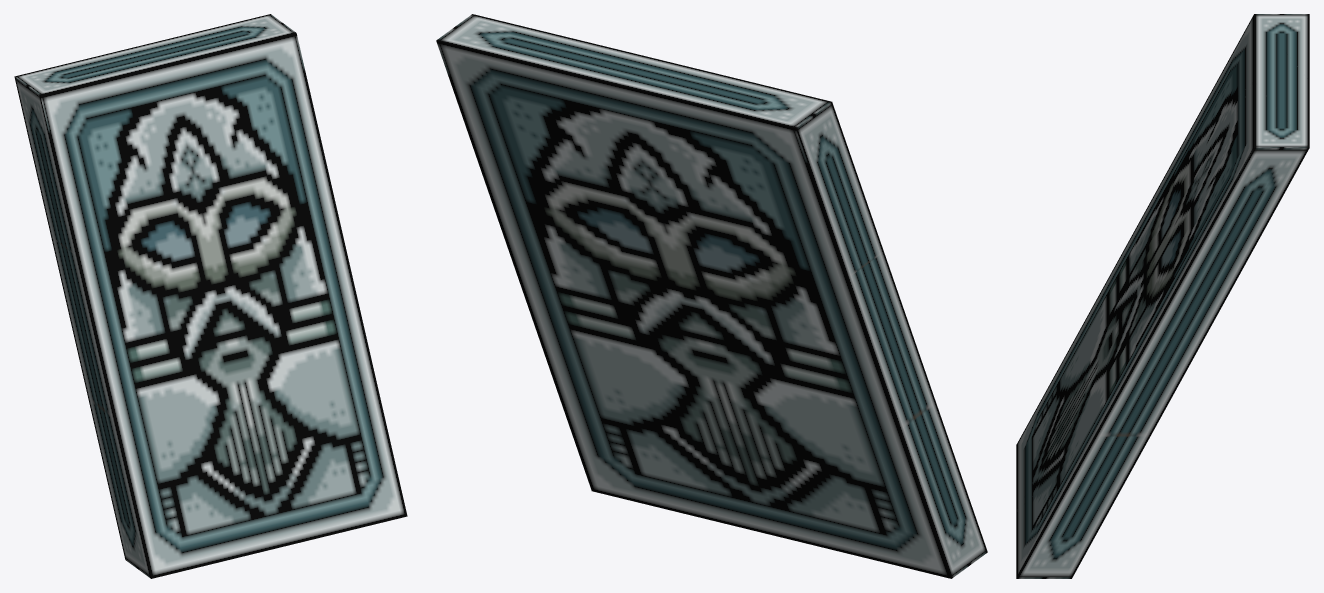
File: deco_winter_door.FBX
3 views of the same model, side by side, from view 1: azimuth 30°, elevation 25°; view 2: azimuth 150°, elevation 25°; view 3: azimuth 270°, elevation 25° (orthographic). The views are drawn at different scales.
Visible parts, largest first — view 1: deco_winter_door; view 2: deco_winter_door; view 3: deco_winter_door.
Boxes of the visible parts, x1,y1,x2,y2 form: deco_winter_door: [14, 14, 407, 578]; deco_winter_door: [436, 14, 987, 578]; deco_winter_door: [1016, 14, 1309, 578].
Size of the model in its own units: 2 by 3 by 1.85.
1 material, 1 textured.
